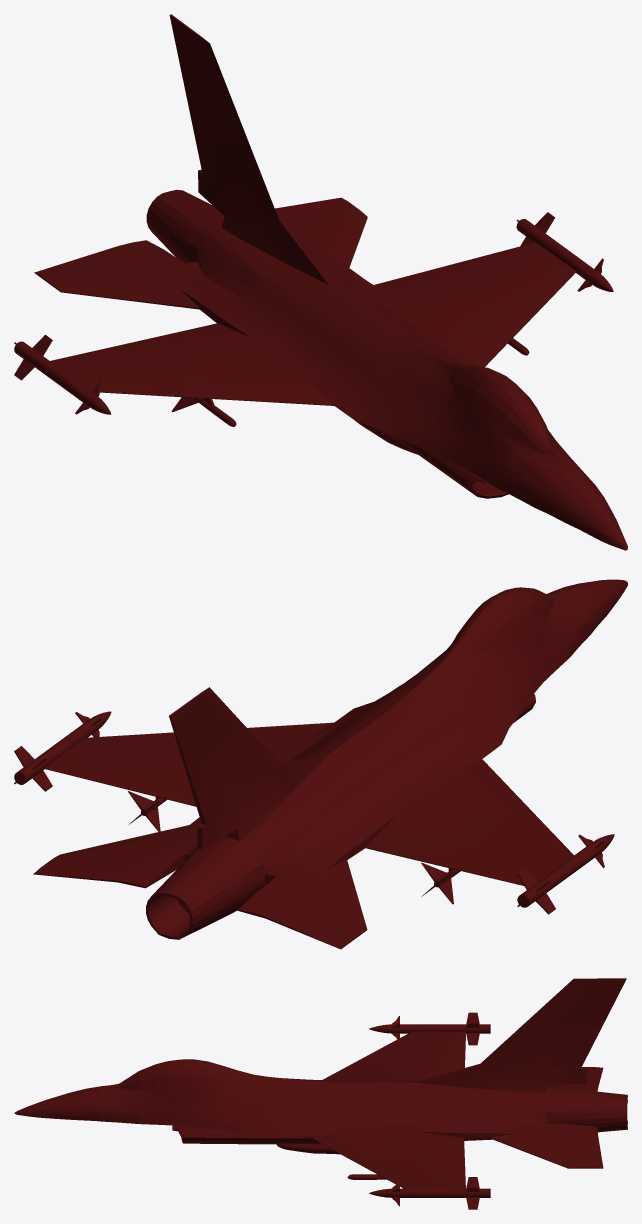
File: f16_tri.obj
3 views of the same model, one above another, from view 1: azimuth 30°, elevation 25°; view 2: azimuth 150°, elevation 25°; view 3: azimuth 270°, elevation 25° (orthographic). The views are drawn at different scales.
Visible parts, largest first — view 1: rudder1, f16body1, f16body4, wings, wings4, wings2, wings6, stabs1, stabs6, f16body10, bombs, f16body11 (+16 smaller); view 2: rudder1, f16body1, f16body4, wings, wings2, wings6, stabs1, wings1, stabs6, bombs, f16body11, f16body10 (+25 smaller); view 3: rudder2, f16body42, f16body45, wings4, wings6, wings2, wings, stabs6, bombs, f16body50, f16body51, f16body77 (+22 smaller).
Part boxes in pixels (left/top/right/bottom): rudder1: left=169, top=15, right=328, bottom=284; f16body1: left=132, top=228, right=627, bottom=550; f16body4: left=151, top=249, right=609, bottom=544; wings: left=150, top=338, right=334, bottom=405; wings4: left=399, top=275, right=530, bottom=367; wings2: left=50, top=343, right=207, bottom=398; wings6: left=453, top=242, right=575, bottom=319; stabs1: left=34, top=246, right=177, bottom=288; stabs6: left=275, top=197, right=360, bottom=252; f16body10: left=200, top=294, right=610, bottom=540; bombs: left=14, top=219, right=603, bottom=414; f16body11: left=252, top=272, right=477, bottom=473; rudder1: left=170, top=687, right=327, bottom=849; f16body1: left=238, top=579, right=627, bottom=912; f16body4: left=256, top=579, right=623, bottom=896; wings: left=399, top=759, right=529, bottom=848; wings2: left=452, top=809, right=573, bottom=885; wings6: left=44, top=732, right=178, bottom=789; stabs1: left=265, top=870, right=360, bottom=949; wings1: left=365, top=813, right=472, bottom=868; stabs6: left=33, top=834, right=177, bottom=882; bombs: left=14, top=712, right=610, bottom=906; f16body11: left=313, top=631, right=551, bottom=812; f16body10: left=332, top=583, right=623, bottom=853; rudder2: left=415, top=978, right=626, bottom=1093; f16body42: left=14, top=1074, right=597, bottom=1138; f16body45: left=28, top=1072, right=573, bottom=1128; wings4: left=308, top=1131, right=436, bottom=1164; wings6: left=361, top=1163, right=465, bottom=1188; wings2: left=362, top=1031, right=465, bottom=1060; wings: left=322, top=1057, right=436, bottom=1080; stabs6: left=517, top=1134, right=603, bottom=1167; bombs: left=376, top=1024, right=490, bottom=1209; f16body50: left=28, top=1087, right=488, bottom=1133; f16body51: left=168, top=1070, right=465, bottom=1132; f16body77: left=102, top=1083, right=597, bottom=1144.
Bounding box in the file's own units: 7.92 × 3.67 × 11.76.
